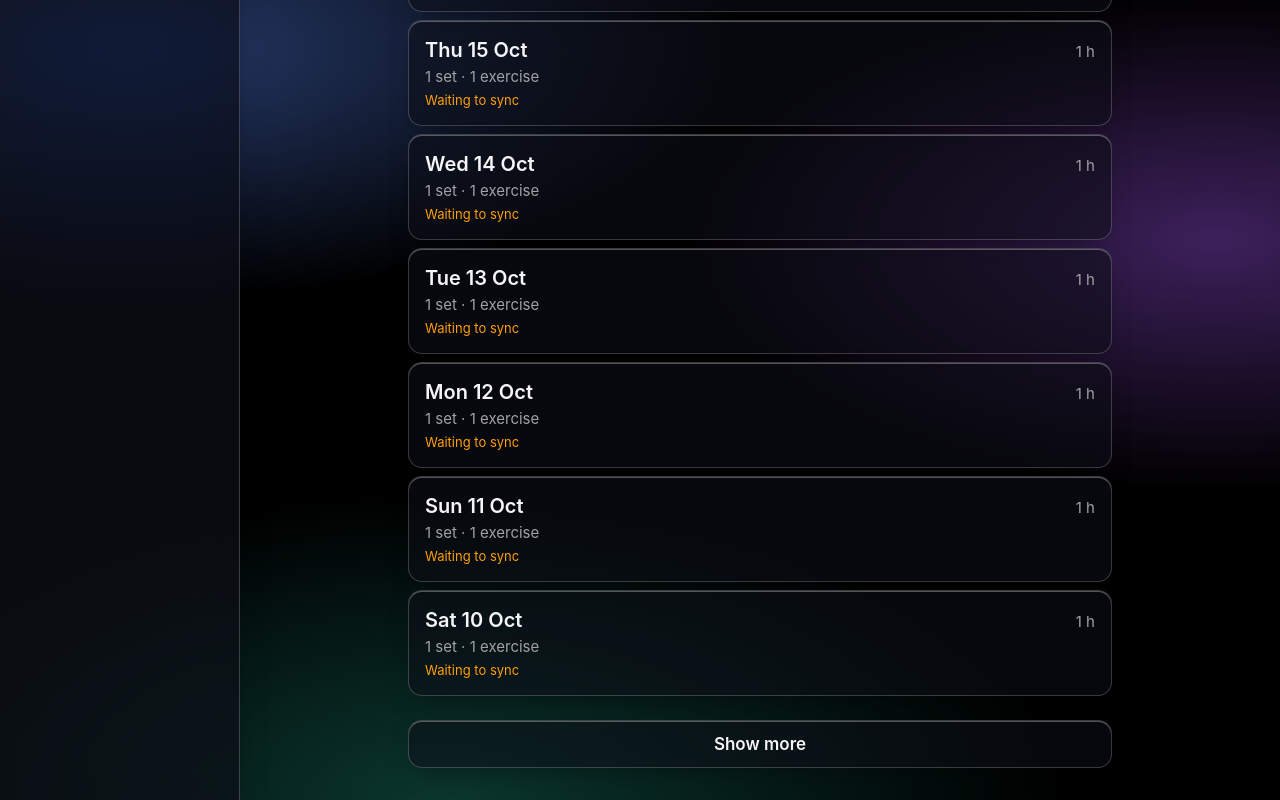
QA history paging boundaries › reaches workout 41 through two taps, then the button is gone
(page scrolled)
Click the button "Show more" at (760, 744), box left=408, top=720, right=1112, bottom=768
(page scrolled)
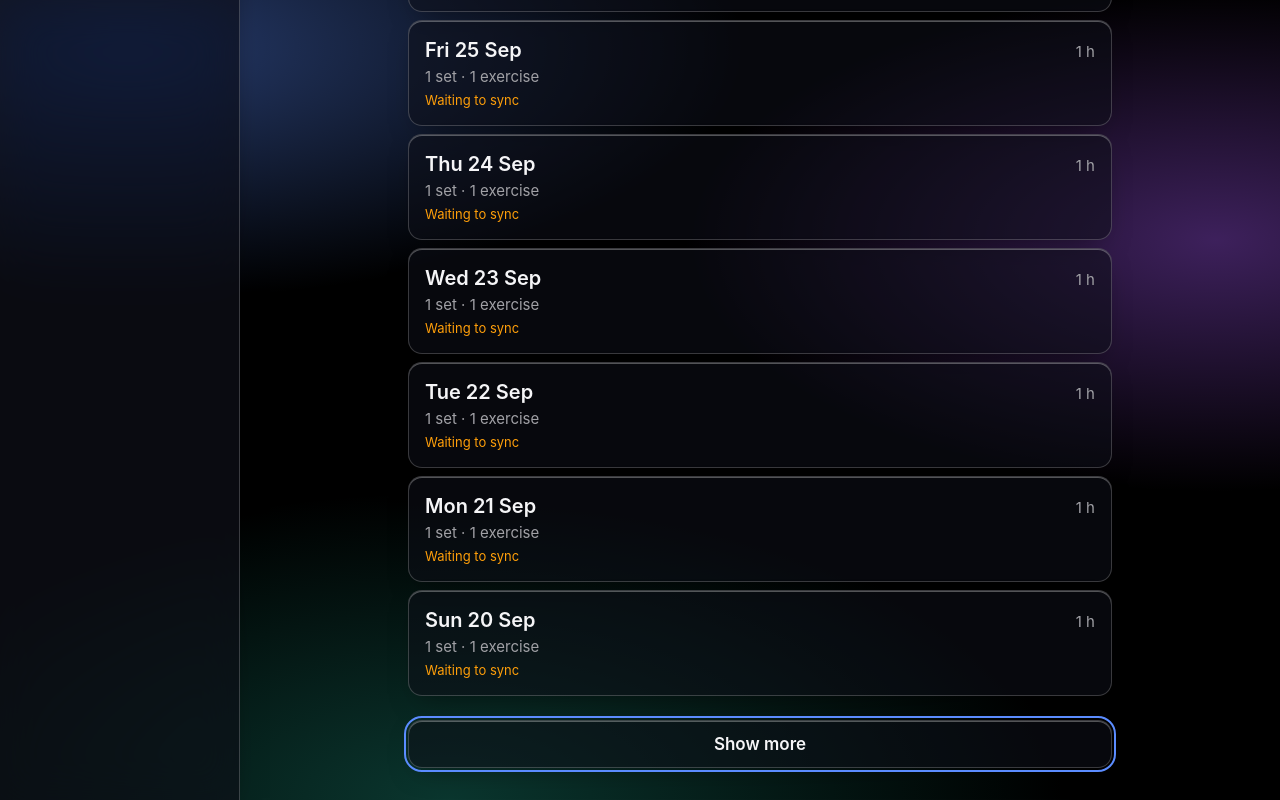
Click the button "Show more" at (760, 744), box left=408, top=720, right=1112, bottom=768
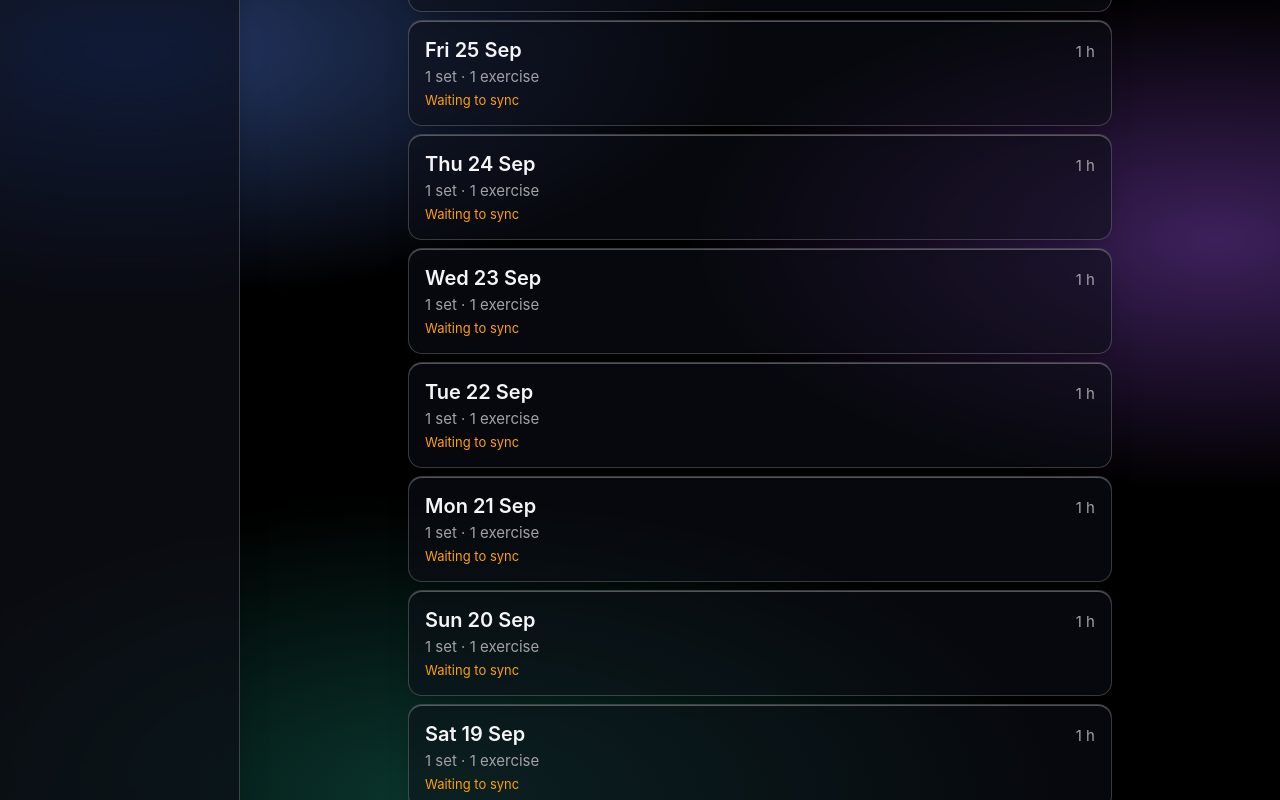
Result: the button "Show more" is gone
